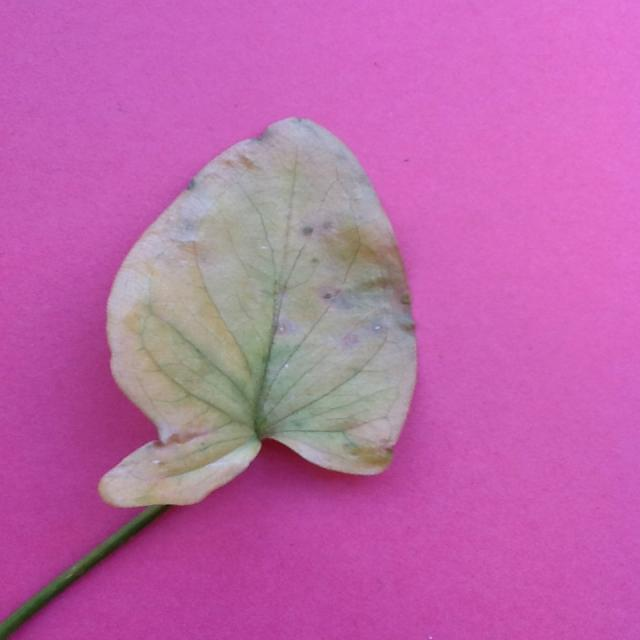foliage: (0, 115, 418, 640)
